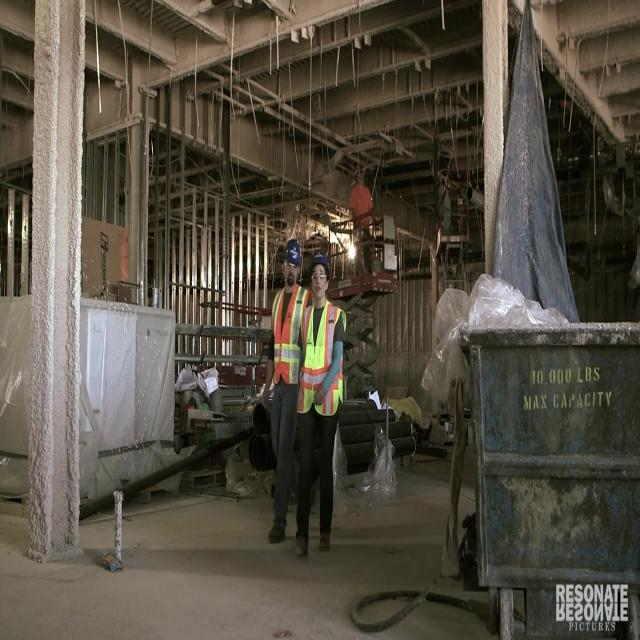Reflective-Jacket: (294, 295, 354, 436), (259, 279, 313, 410)
Safety-Helmet: (306, 243, 336, 284), (278, 232, 308, 273)
